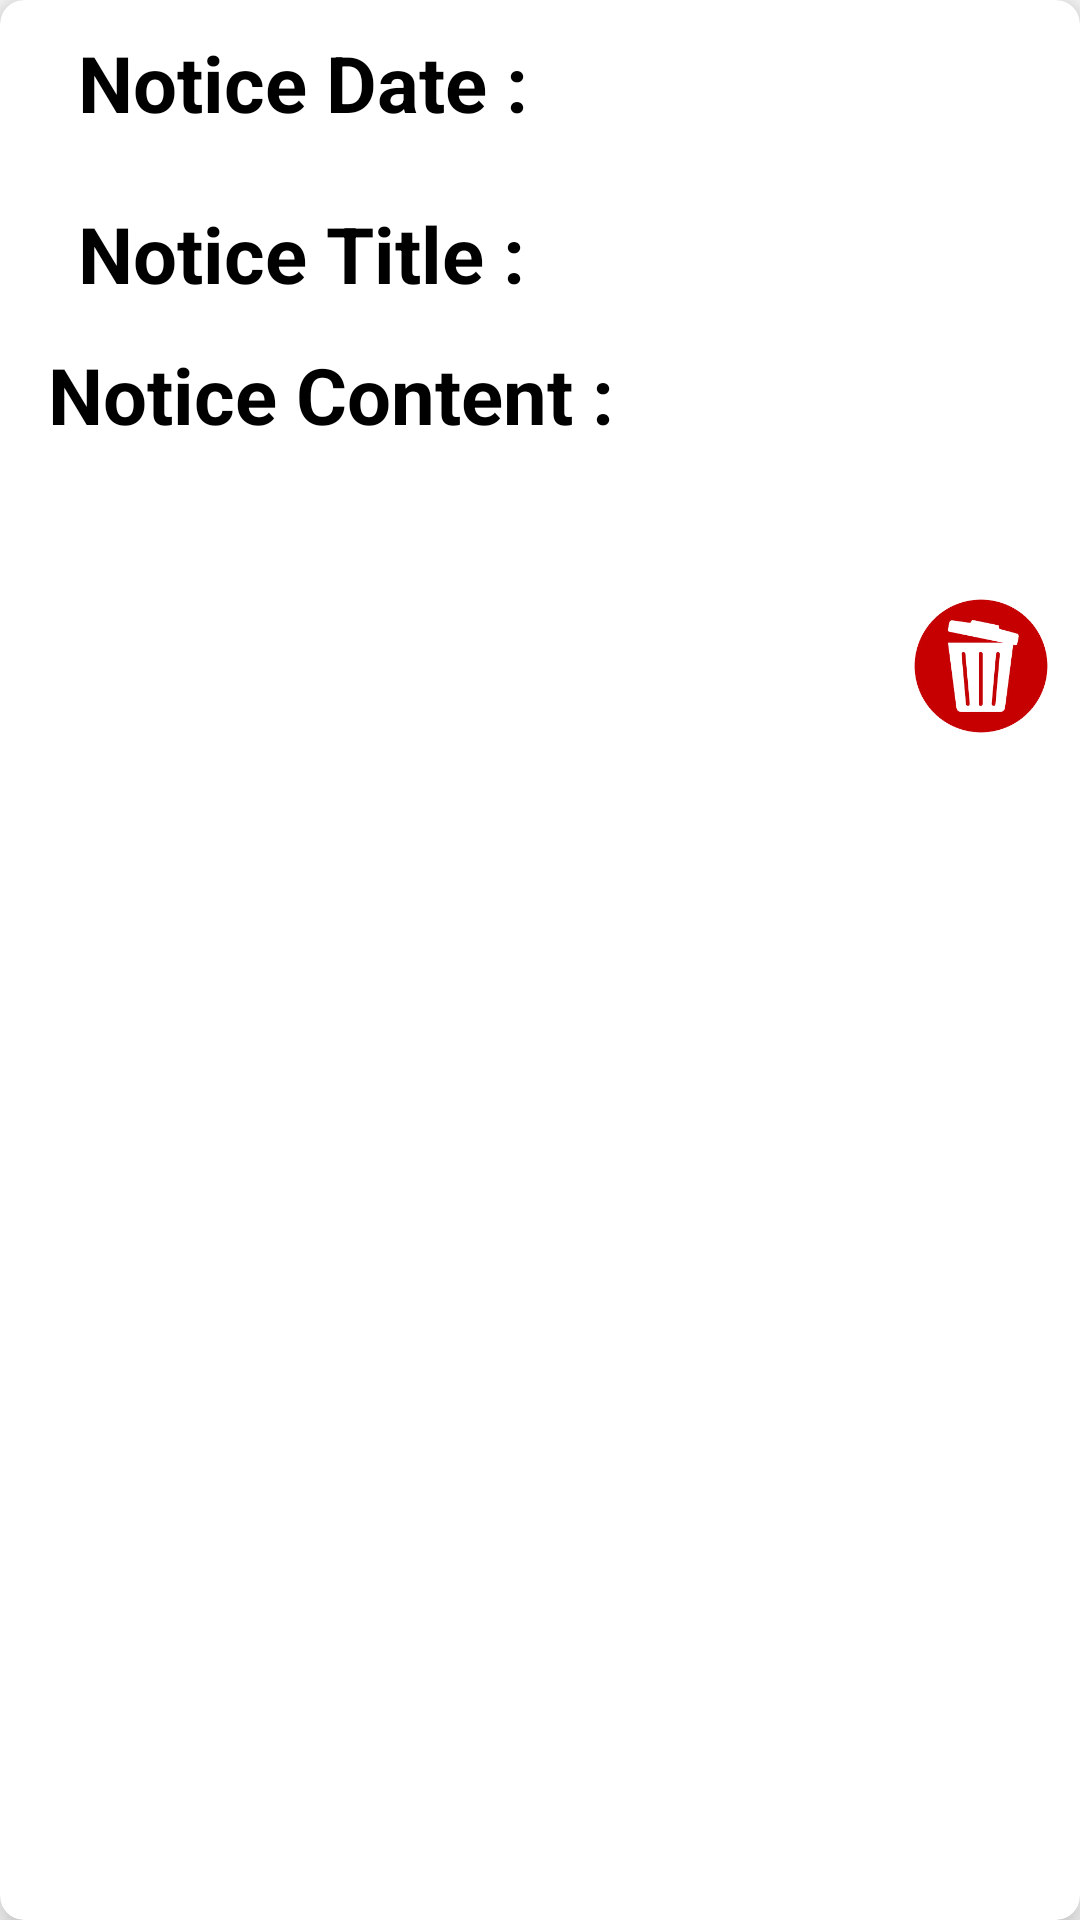

Named icons in this screenshot (1080w x 1920h) and their centers, point (x, y):
delete: point (981, 666)
